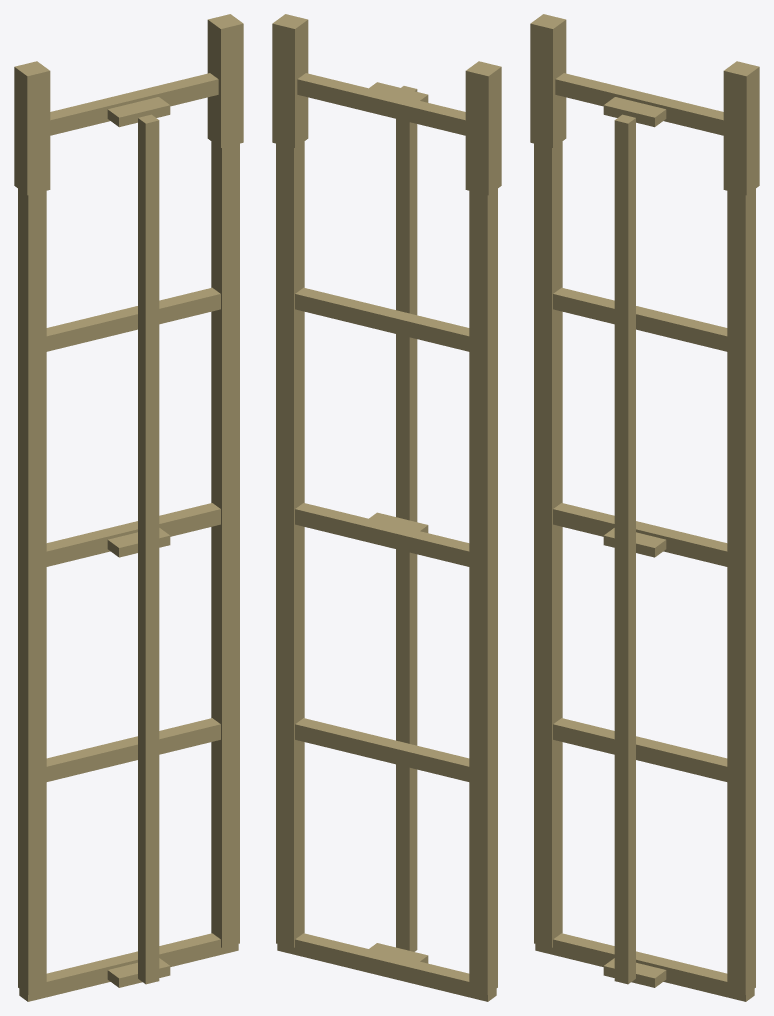
File: SM_Ladder_LowerToFondAccess.fbx
The picture shows the model from 3 angles, left to right: view 1: azimuth 30°, elevation 25°; view 2: azimuth 150°, elevation 25°; view 3: azimuth 330°, elevation 25°; orthographic projection.
Parts seen in each view (by area): view 1: SM_Ladder_LowerToFondAccess; view 2: SM_Ladder_LowerToFondAccess; view 3: SM_Ladder_LowerToFondAccess.
Boxes of the visible parts, box(x1,y1,x2,y2) form: SM_Ladder_LowerToFondAccess: box(14, 14, 243, 1001); SM_Ladder_LowerToFondAccess: box(272, 14, 501, 1001); SM_Ladder_LowerToFondAccess: box(530, 14, 759, 1001).
Bounding box in the file's own units: 38 × 9.2 × 156.
